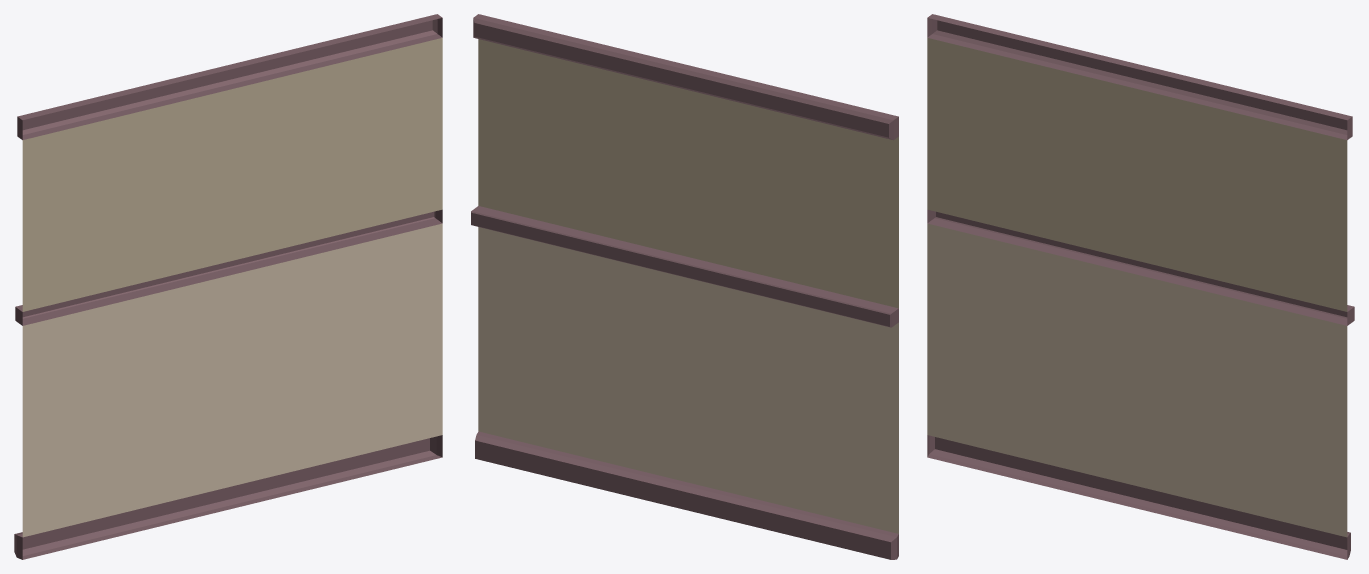
Rendered from wall_1.fbx.
3 renders of one model, left to right at view 1: azimuth 30°, elevation 25°; view 2: azimuth 150°, elevation 25°; view 3: azimuth 330°, elevation 25°, orthographic.
Parts seen in each view (by area): view 1: pCube2; view 2: pCube2; view 3: pCube2.
Part boxes in pixels (box(x1,y1,x2,y2)): pCube2: box(14, 14, 442, 559); pCube2: box(471, 14, 898, 559); pCube2: box(927, 14, 1354, 559).
Size of the model in its own units: 0.7122 by 0.7089 by 0.0235.
